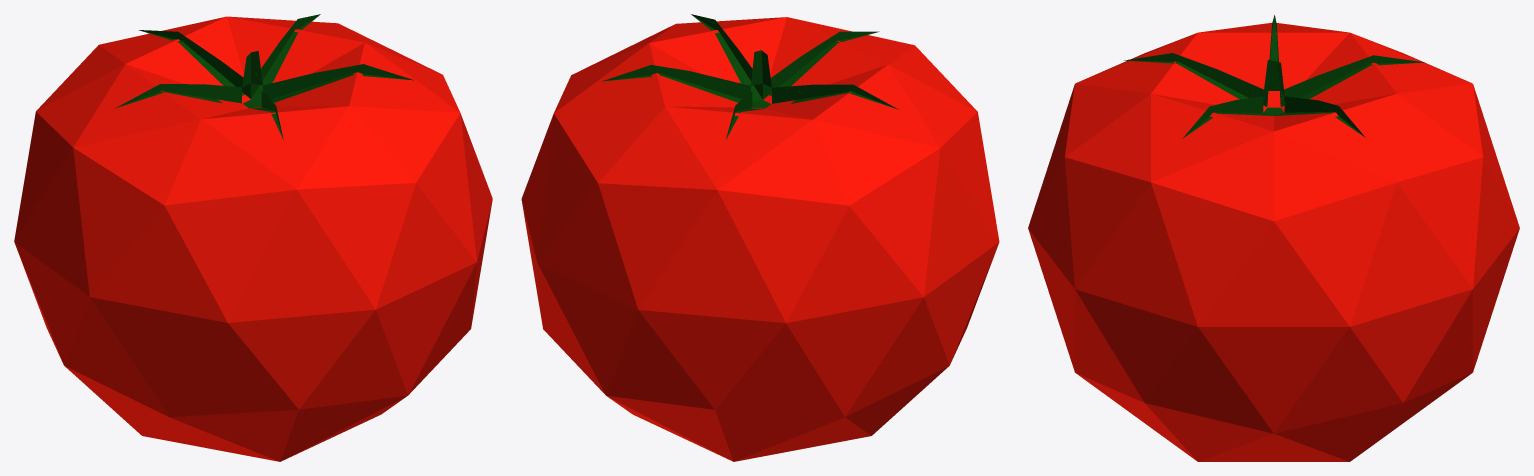
Rendered from tomate.FBX.
The picture shows the model from 3 angles, left to right: view 1: azimuth 30°, elevation 25°; view 2: azimuth 150°, elevation 25°; view 3: azimuth 270°, elevation 25°; orthographic projection.
Parts seen in each view (by area): view 1: tomate; view 2: tomate; view 3: tomate.
Part boxes in pixels (left/top/right/bottom): tomate: left=14, top=14, right=492, bottom=461; tomate: left=521, top=14, right=999, bottom=461; tomate: left=1028, top=15, right=1519, bottom=461.
Size of the model in its own units: 10.39 by 9.6 by 10.93.
